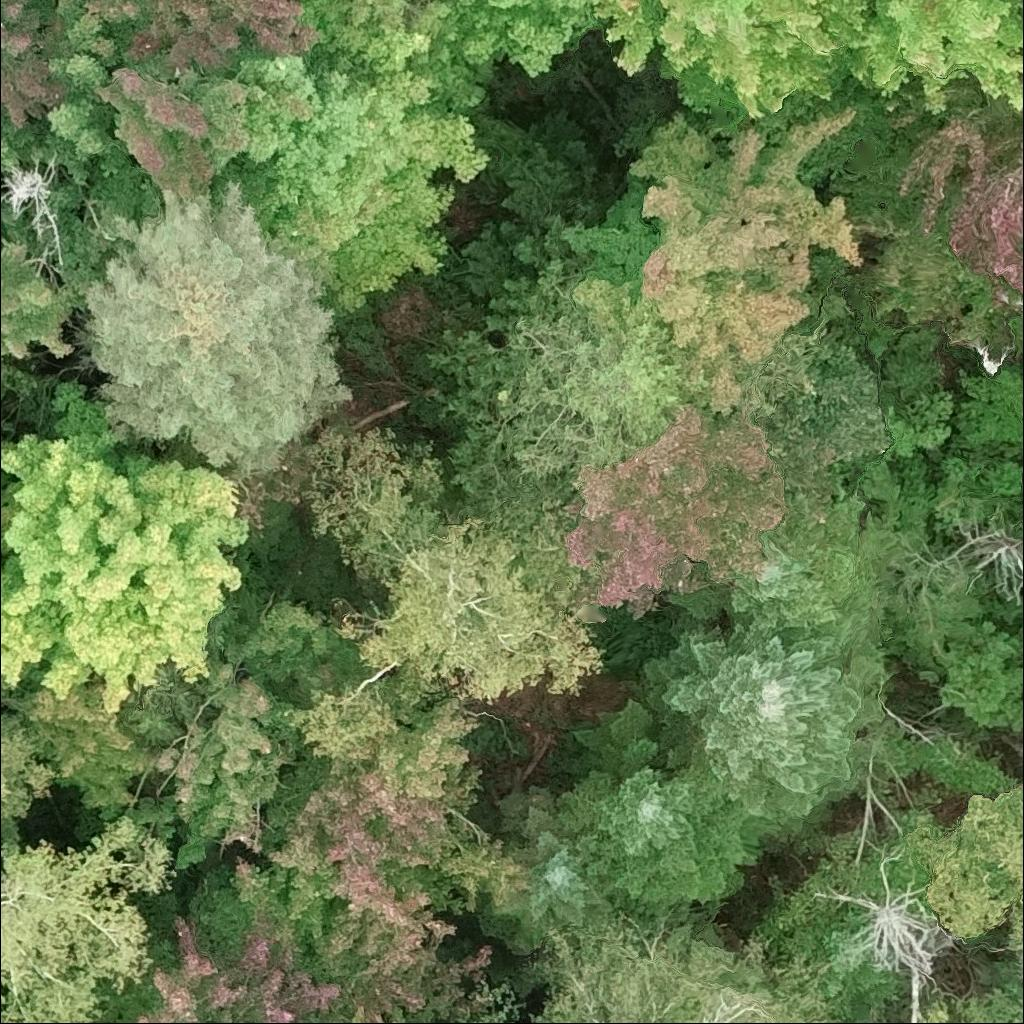crown: (561, 317, 895, 617), (0, 0, 319, 294), (211, 0, 495, 320), (570, 105, 867, 410), (0, 379, 251, 715), (80, 180, 357, 481), (426, 230, 695, 505), (125, 587, 368, 869), (93, 854, 495, 1023), (257, 696, 533, 934), (637, 591, 888, 827), (338, 491, 610, 705), (553, 695, 778, 917), (589, 0, 891, 132), (0, 815, 165, 1023), (527, 903, 793, 1023), (889, 82, 1023, 311), (665, 492, 879, 631), (1, 674, 183, 822), (470, 783, 614, 956), (300, 422, 447, 584), (863, 0, 1023, 114), (418, 0, 595, 79), (282, 673, 431, 759), (0, 235, 81, 363), (0, 677, 60, 841), (0, 158, 66, 263), (444, 976, 522, 1023), (335, 0, 422, 33), (0, 478, 20, 568), (344, 1001, 384, 1023), (389, 1015, 410, 1023), (416, 0, 428, 10)
